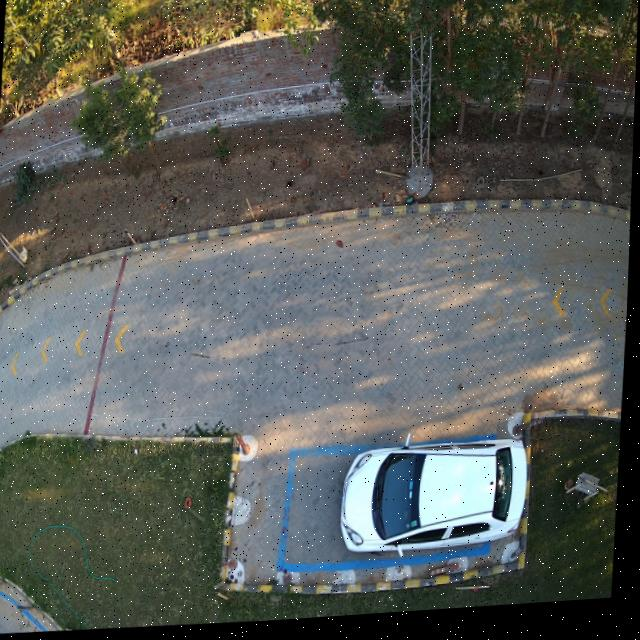car: (344, 446, 531, 563)
